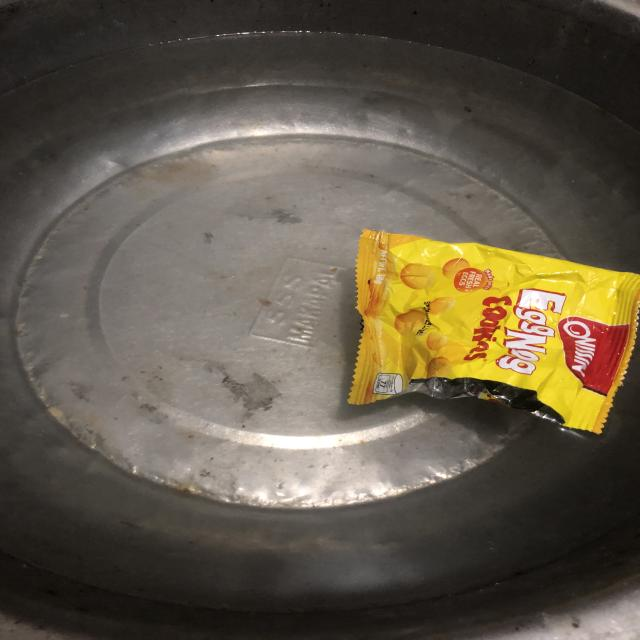Plastic Wrapper: (333, 221, 639, 430)
